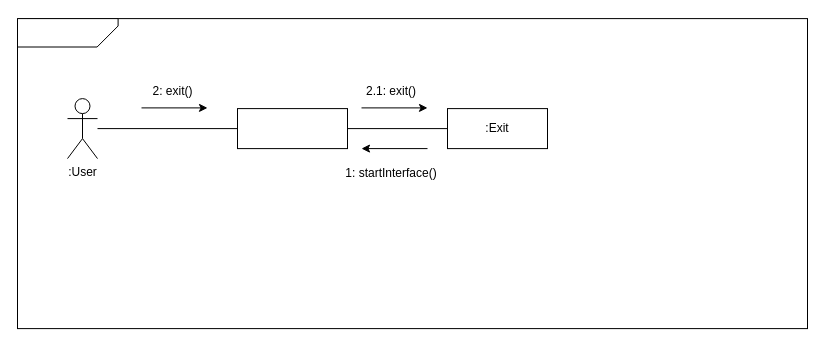
Image size: 825x347. Some labels were removed from this diagram. The shapes that lost their labels are listed below. From the top down, each one's centre as x and y in pixels, then its label:
point (67, 32): Exit
point (292, 128): :ExitUI
